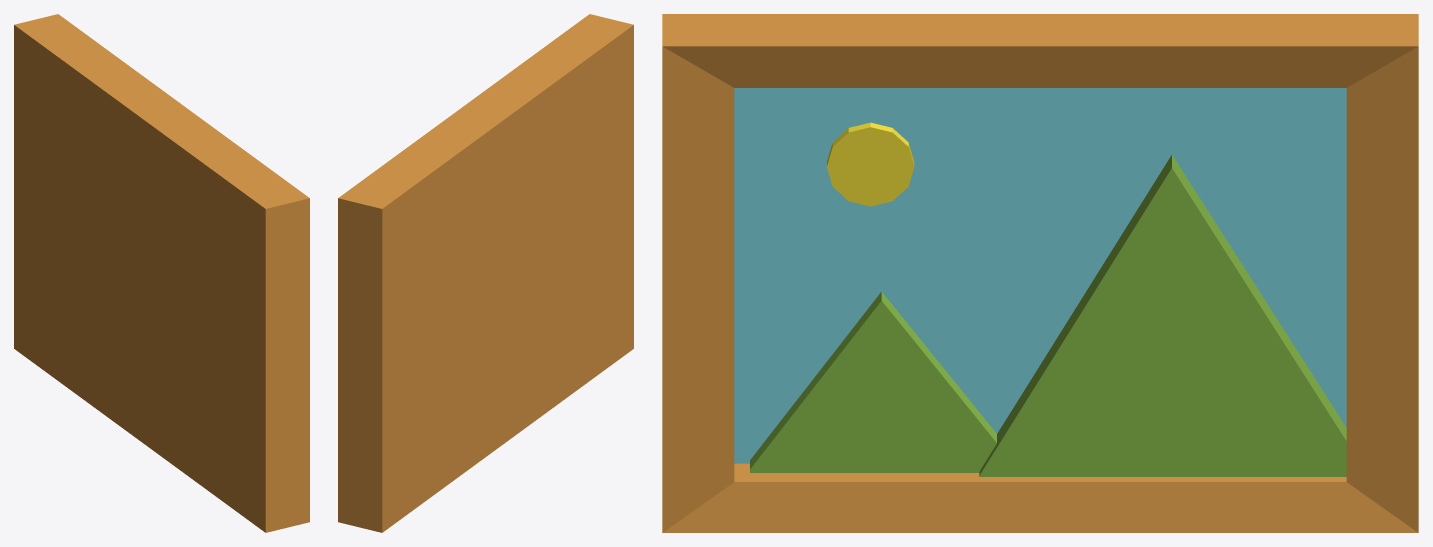
File: PictureFrame.glb
3 views of the same model, side by side, from view 1: azimuth 30°, elevation 25°; view 2: azimuth 150°, elevation 25°; view 3: azimuth 270°, elevation 25° (orthographic). The views are drawn at different scales.
Visible parts, largest first — view 1: Node; view 2: Node; view 3: Node.
Boxes of the visible parts, x1,y1,x2,y2 form: Node: [14, 14, 309, 532]; Node: [338, 14, 633, 532]; Node: [662, 14, 1418, 532].
Bounding box in the file's own units: 0.07 × 0.49 × 0.69.
